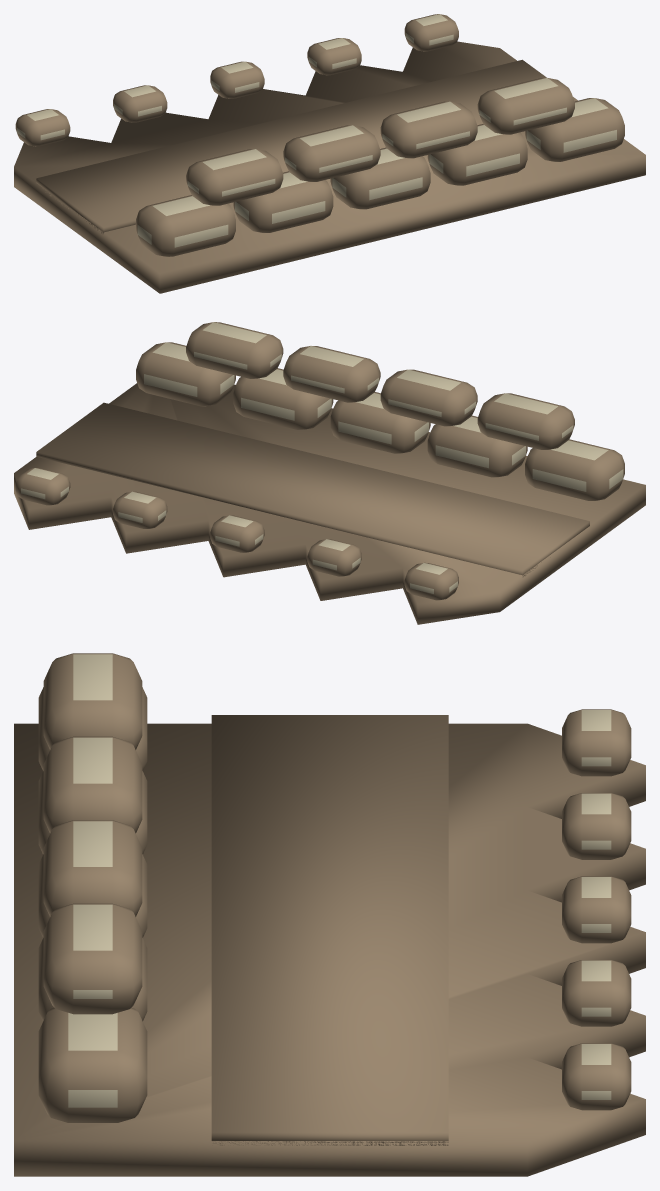
The model's file is SM_TrenchStrip.fbx.
3 renders of one model, top to bottom at view 1: azimuth 30°, elevation 25°; view 2: azimuth 150°, elevation 25°; view 3: azimuth 270°, elevation 25°, orthographic. The views are drawn at different scales.
Parts seen in each view (by area): view 1: SM_TrenchStrip; view 2: SM_TrenchStrip; view 3: SM_TrenchStrip.
Part boxes in pixels (x1,y1,x2,y2): SM_TrenchStrip: (14,14,645,293); SM_TrenchStrip: (14,322,645,624); SM_TrenchStrip: (14,653,645,1176).
Bounding box in the file's own units: 1 × 0.185 × 0.64.
